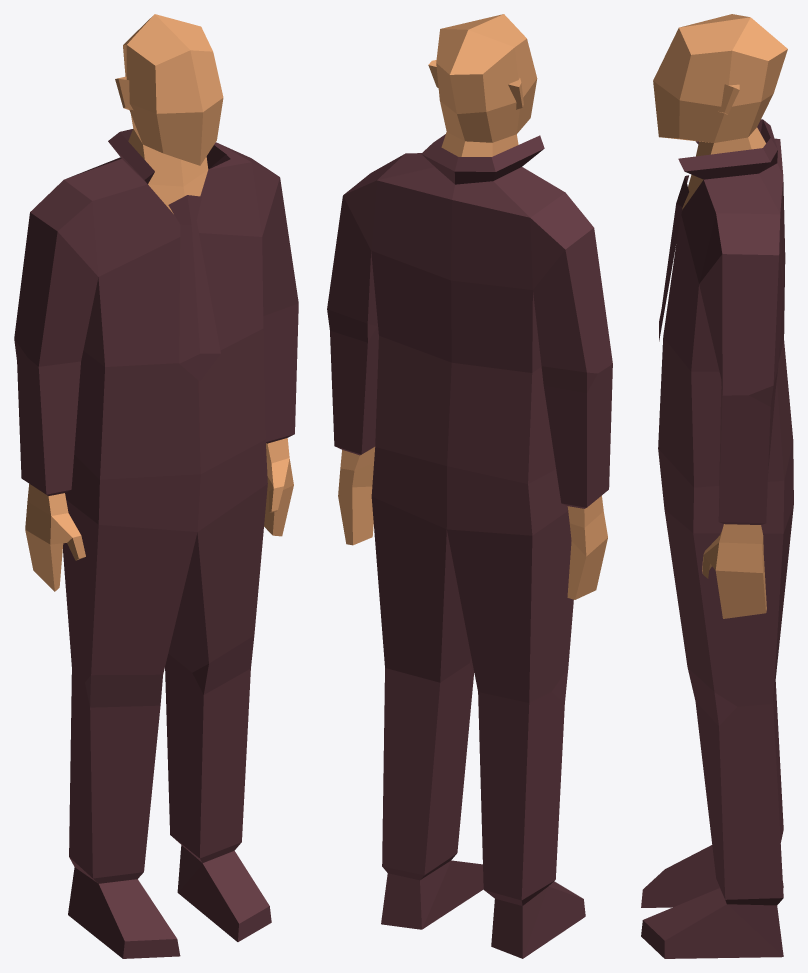
Rendered from man-tie-bold.fbx.
The picture shows the model from 3 angles, left to right: view 1: azimuth 30°, elevation 25°; view 2: azimuth 150°, elevation 25°; view 3: azimuth 270°, elevation 25°; orthographic projection.
Visible parts, largest first — view 1: man-tie-bold; view 2: man-tie-bold; view 3: man-tie-bold.
Part boxes in pixels (<box>): man-tie-bold: <box>14,14,298,958</box>; man-tie-bold: <box>327,14,612,958</box>; man-tie-bold: <box>641,14,793,958</box>.
Size of the model in its own units: 0.5438 by 1.79 by 0.2741.
